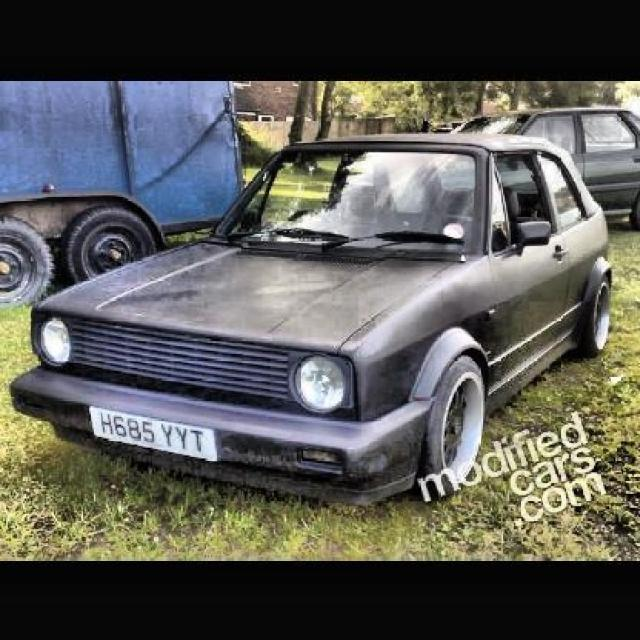black: (55, 133, 640, 481)
